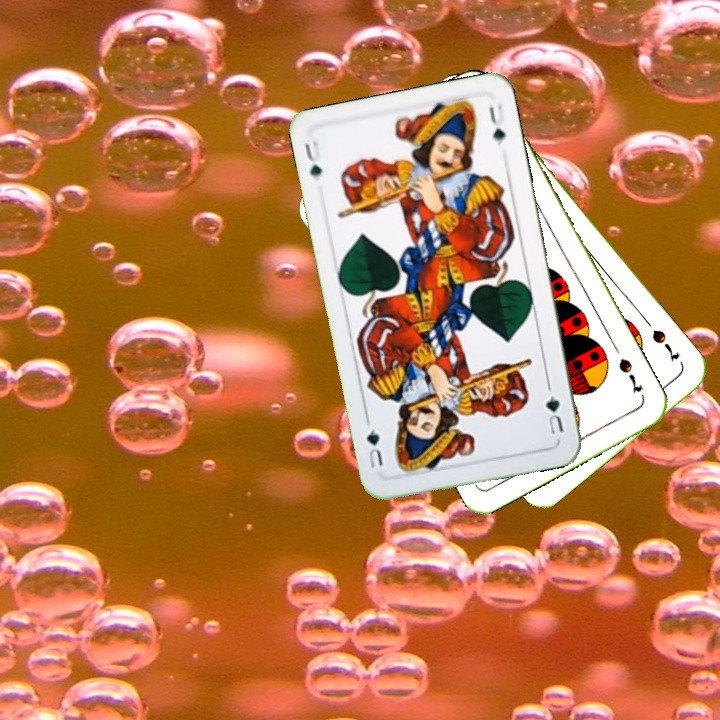GU: (300, 136, 325, 184), (541, 391, 567, 437)
S7: (614, 354, 646, 396), (647, 325, 682, 363)
